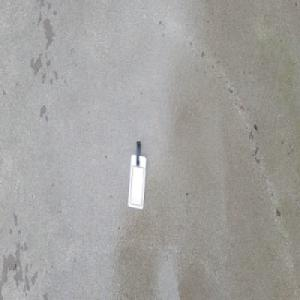LuggageTag: (126, 138, 147, 210)
